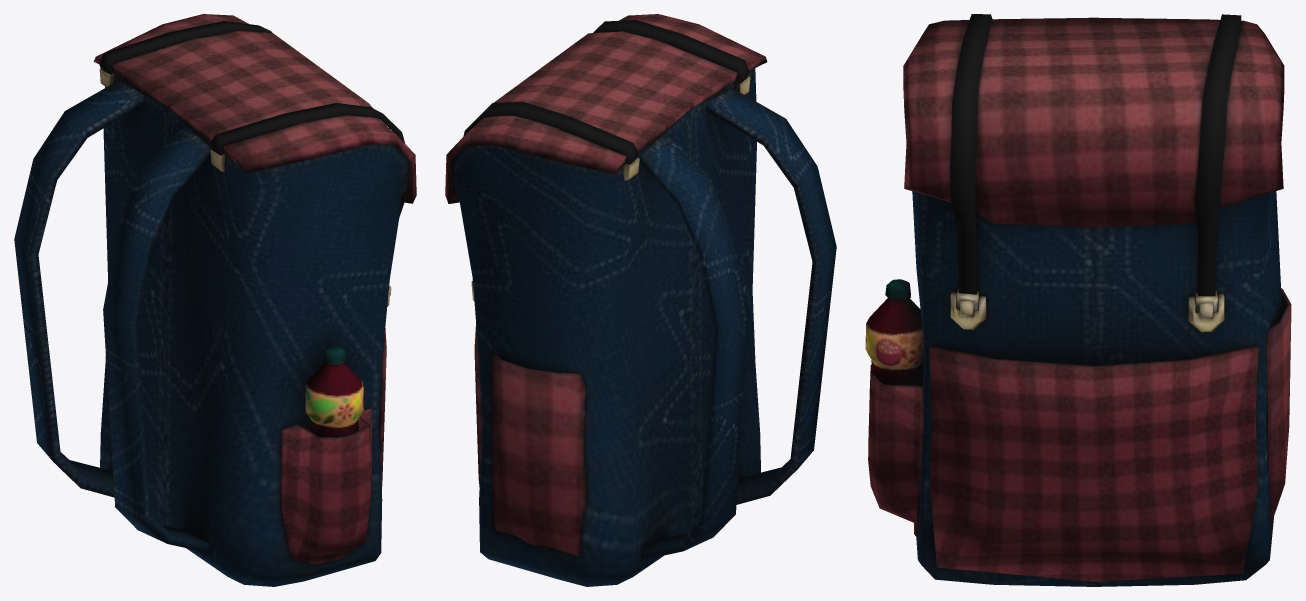
File: outfit_backpack.glb
3 renders of one model, left to right at view 1: azimuth 30°, elevation 25°; view 2: azimuth 150°, elevation 25°; view 3: azimuth 270°, elevation 25°, orthographic. The views are drawn at different scales.
Parts seen in each view (by area): view 1: outfit_backpack; view 2: outfit_backpack; view 3: outfit_backpack.
Part boxes in pixels (x1,y1,x2,y2): outfit_backpack: [14, 14, 416, 586]; outfit_backpack: [445, 14, 836, 586]; outfit_backpack: [865, 14, 1291, 586].
Bounding box in the file's own units: 0.1934 × 0.3 × 0.2257.
1 material, 1 textured.
